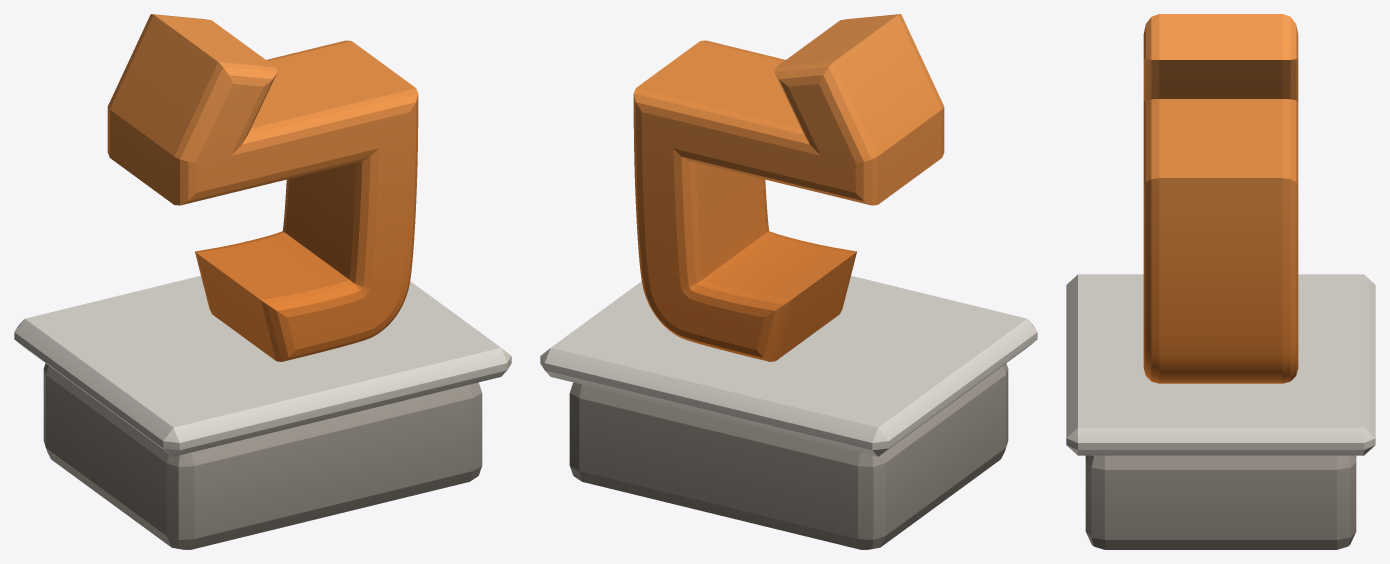
File: statue_bpmf.glb
The picture shows the model from 3 angles, left to right: view 1: azimuth 30°, elevation 25°; view 2: azimuth 150°, elevation 25°; view 3: azimuth 270°, elevation 25°; orthographic projection. The views are drawn at different scales.
Visible parts, largest first — view 1: pedestal, bpmf; view 2: pedestal, bpmf; view 3: pedestal, bpmf.
Boxes of the visible parts, box(x1,y1,x2,y2) form: pedestal: box(14, 275, 511, 549); bpmf: box(107, 14, 418, 361); pedestal: box(540, 275, 1037, 549); bpmf: box(633, 14, 944, 361); pedestal: box(1066, 274, 1375, 549); bpmf: box(1143, 14, 1298, 383).
Bounding box in the file's own units: 1 × 1.24 × 0.8.
Materials: 1 (1 with a texture image).
